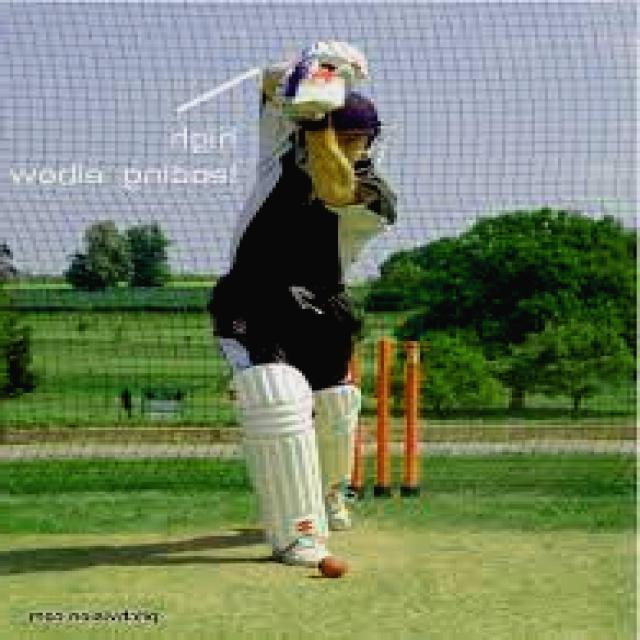toe: (280, 84, 356, 118)
